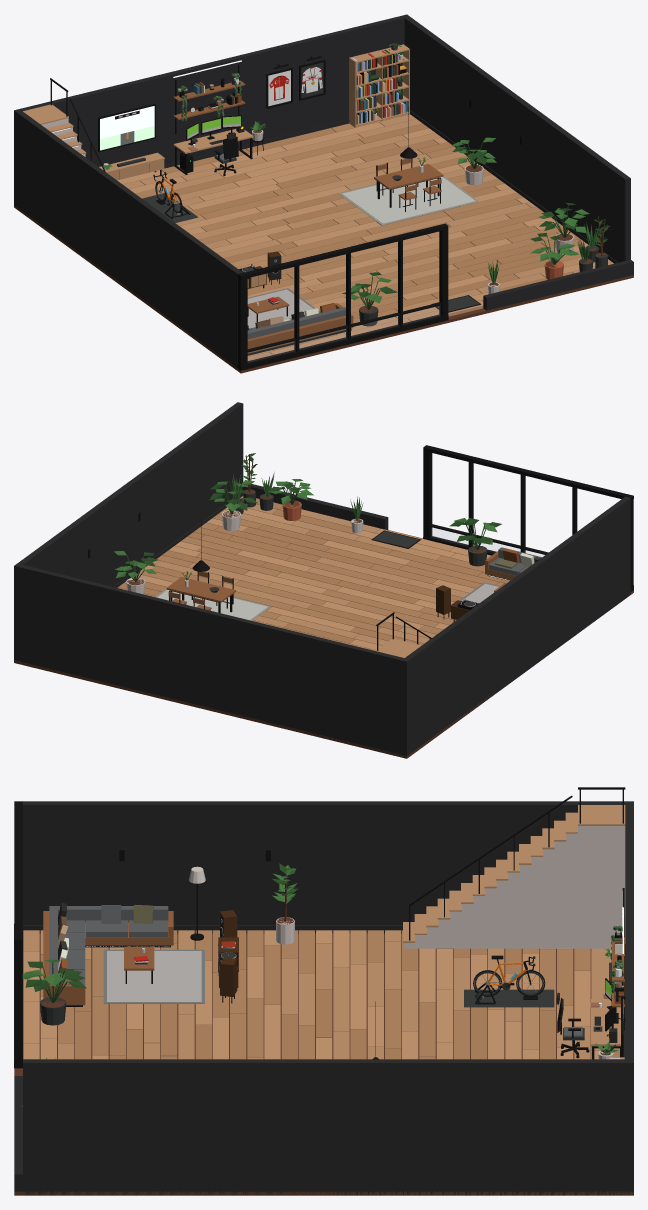
Rendered from home.glb.
The picture shows the model from 3 angles, top to bottom: view 1: azimuth 30°, elevation 25°; view 2: azimuth 150°, elevation 25°; view 3: azimuth 270°, elevation 25°; orthographic projection. The views are drawn at different scales.
Parts seen in each view (by area): view 1: HomeMerged, HomeShadow, HomeGlass; view 2: HomeMerged, HomeShadow; view 3: HomeMerged, HomeShadow.
Part boxes in pixels (x1,y1,x2,y2): HomeMerged: (14, 14, 633, 373); HomeShadow: (237, 223, 448, 353); HomeGlass: (248, 306, 439, 361); HomeMerged: (14, 402, 633, 758); HomeShadow: (423, 445, 633, 574); HomeMerged: (14, 787, 633, 1195); HomeShadow: (14, 801, 22, 1044).
Size of the model in its own units: 14.4 by 4.32 by 14.41.
2 materials, 1 textured.
